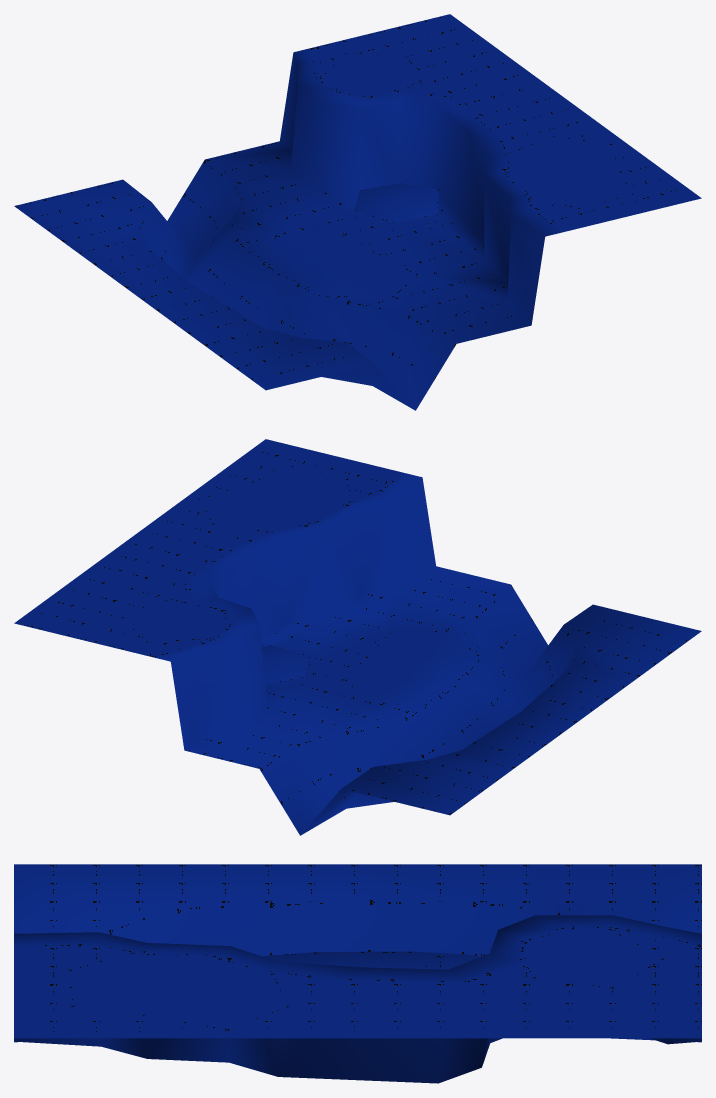
File: GRD_S_C6_R1_2.fbx
3 renders of one model, top to bottom at view 1: azimuth 30°, elevation 25°; view 2: azimuth 150°, elevation 25°; view 3: azimuth 270°, elevation 25°, orthographic. The views are drawn at different scales.
Parts seen in each view (by area): view 1: material_00042000, material_00022000, material_C0052000, material_C0032000, material_C0012000, material_C0062000; view 2: material_00042000, material_00022000, material_C0052000, material_C0032000, material_C0012000; view 3: material_00042000, material_00022000, material_C0032000, material_C0052000.
Part boxes in pixels (x1,y1,x2,y2): material_00042000: (14,14,701,390); material_00022000: (280,47,564,324); material_C0052000: (139,160,456,410); material_C0032000: (250,53,634,297); material_C0012000: (354,183,438,223); material_C0062000: (354,196,438,230); material_00042000: (14,439,701,815); material_00022000: (151,472,435,749); material_C0052000: (259,585,576,835); material_C0032000: (120,466,479,706); material_C0012000: (261,645,310,684); material_00042000: (14,864,701,1038); material_00022000: (14,915,701,1083); material_C0032000: (67,928,664,1030); material_C0052000: (14,899,701,1042).
Size of the model in its own units: 12800 by 4000 by 12800.
